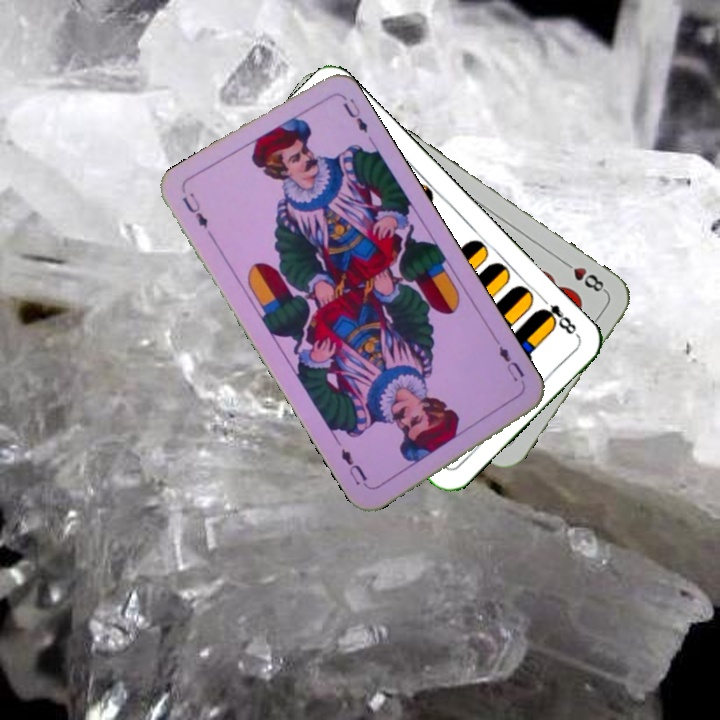E8: (534, 292, 579, 337)
EU: (177, 189, 217, 242), (492, 335, 527, 384)
H8: (558, 256, 609, 296)
